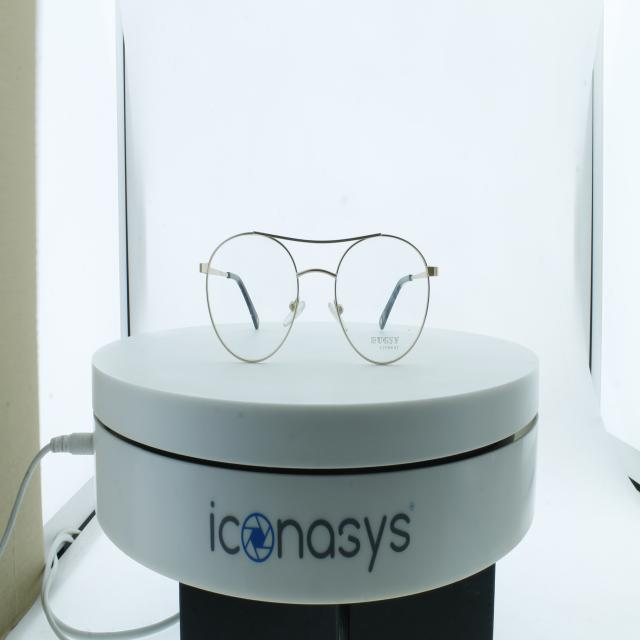Specs: (184, 209, 450, 389)
